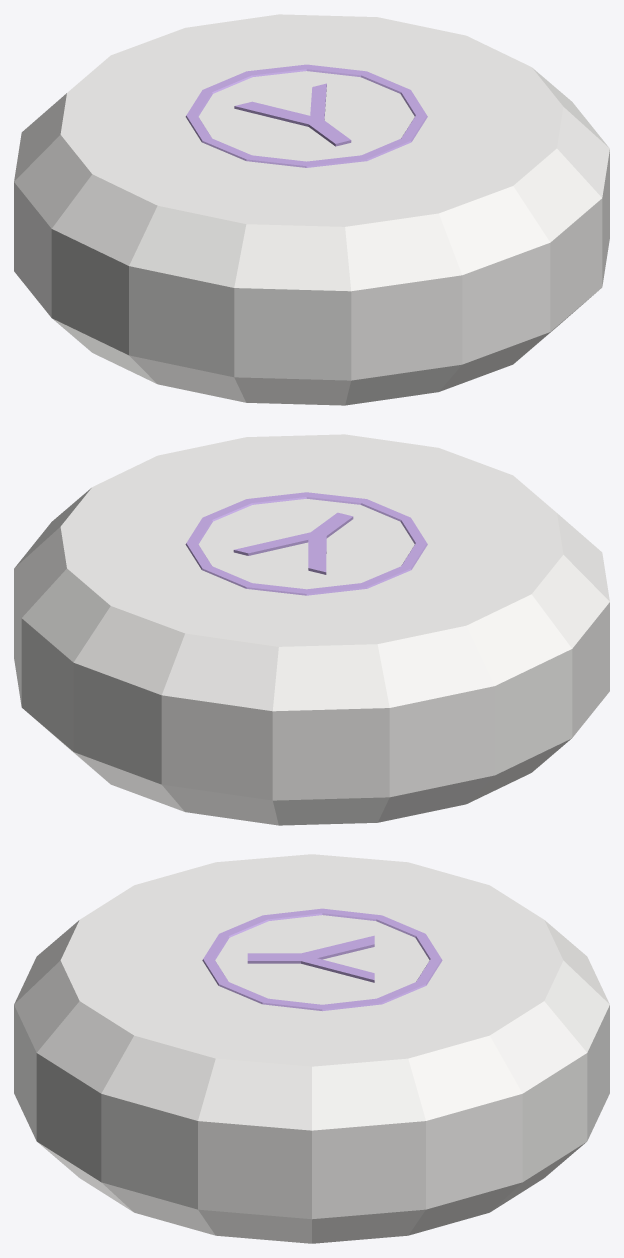
Rendered from Pillow_7.fbx.
The picture shows the model from 3 angles, top to bottom: view 1: azimuth 30°, elevation 25°; view 2: azimuth 150°, elevation 25°; view 3: azimuth 270°, elevation 25°; orthographic projection.
Visible parts, largest first — view 1: Pillow_7; view 2: Pillow_7; view 3: Pillow_7.
Boxes of the visible parts, x1,y1,x2,y2 form: Pillow_7: [14, 14, 609, 405]; Pillow_7: [14, 434, 609, 825]; Pillow_7: [14, 854, 609, 1243].
Bounding box in the file's own units: 55.96 × 55.96 × 18.62.
